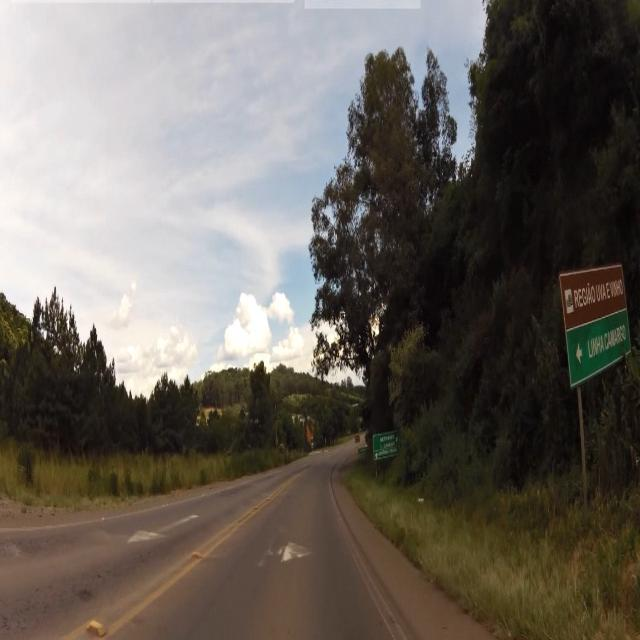I-4: (564, 317, 640, 378), (373, 434, 401, 456)
